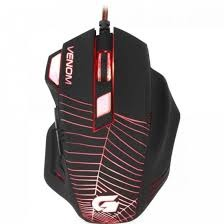mouse: (31, 20, 184, 224)
